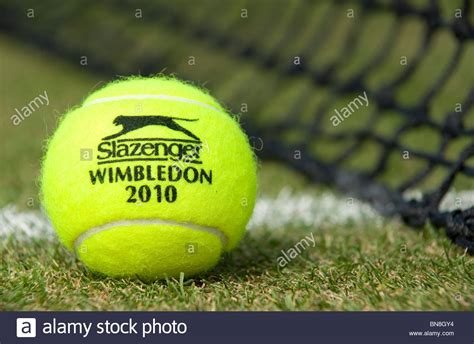tennis_ball: (37, 73, 263, 283)
